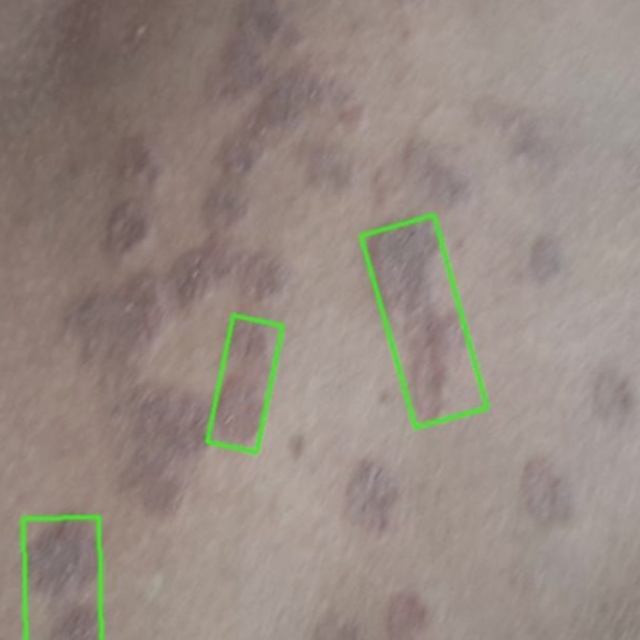Tinea Corporis: (361, 214, 488, 427), (207, 314, 283, 451), (24, 517, 101, 639)
